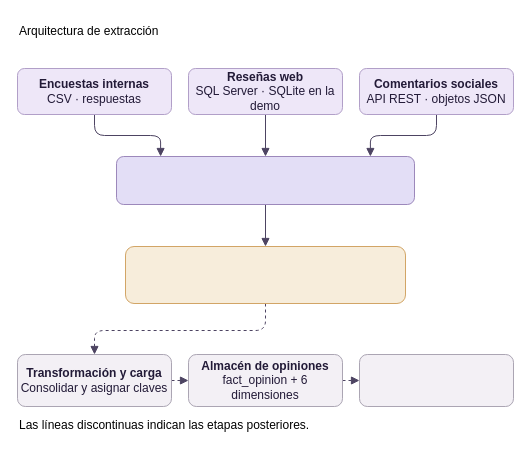
The diagram is 531 pixels wide and 451 high, and some of its shapes have lost their labels. Here are the shapes that lost their labels. From the top down, the centre of each, then its label:
the point at 265,180: Worker Service .NET 8 3 adaptadores · ejecución paralela · ILogger
the point at 265,275: Staging por ejecución Partes JSON + manifiesto SHA-256
the point at 436,380: Panel analítico Canal, producto y período
